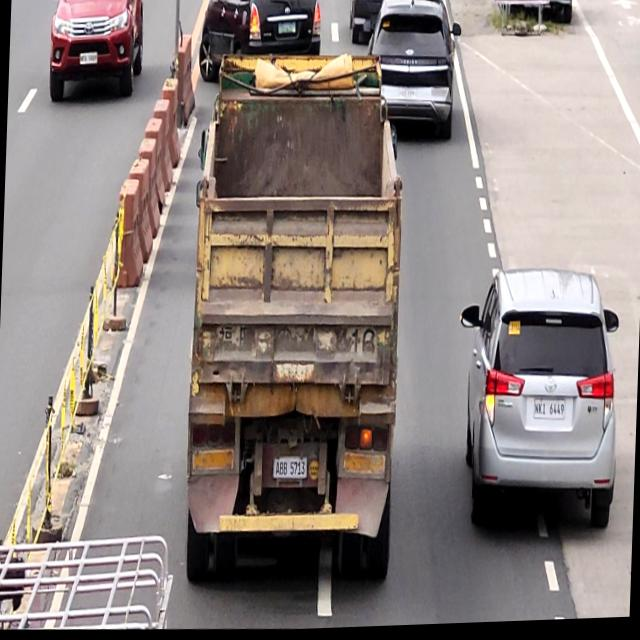Car: (453, 267, 622, 539), (362, 0, 463, 149), (195, 0, 321, 89), (348, 0, 420, 54)
License-Plate: (274, 459, 308, 484), (534, 403, 564, 425), (398, 89, 418, 103), (276, 22, 296, 35)
Truck: (179, 43, 408, 595)
